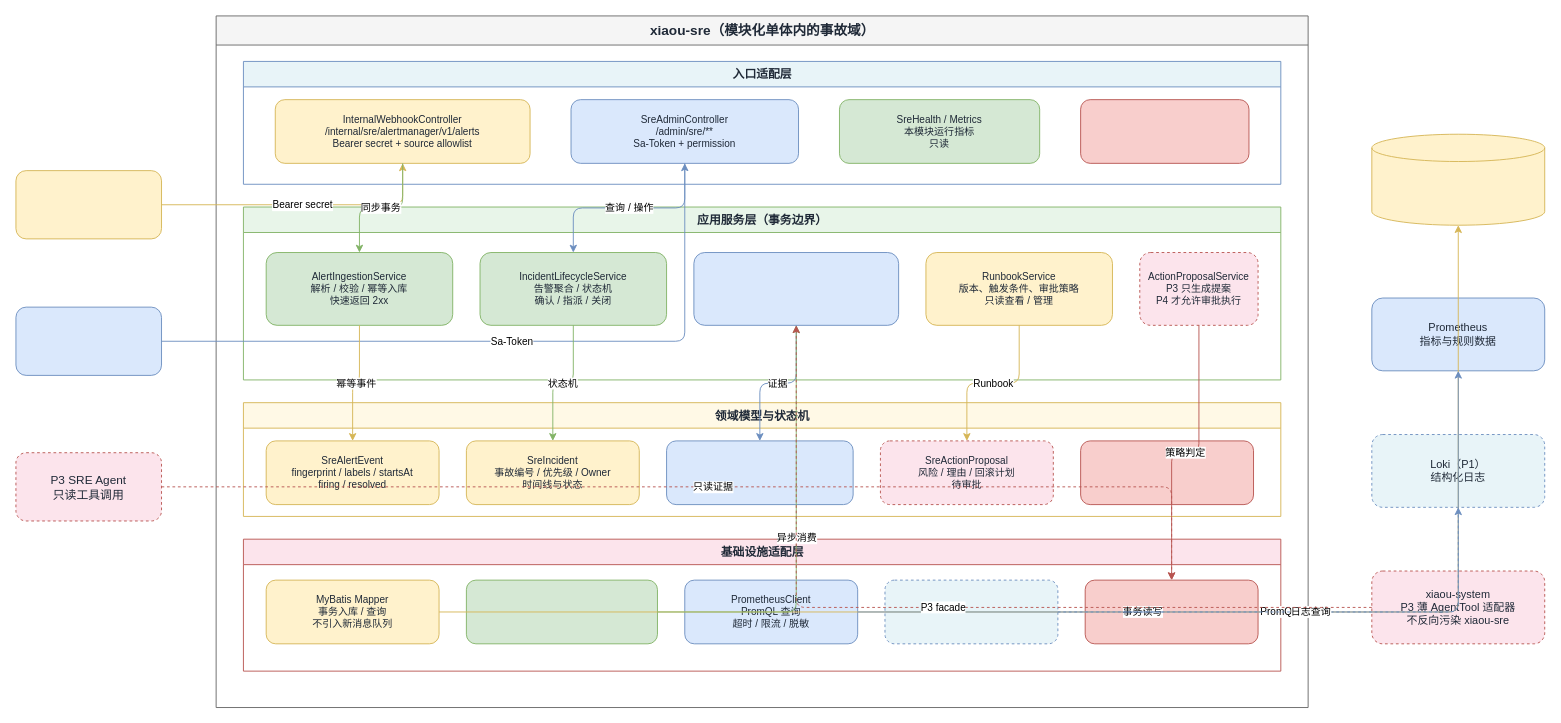
The diagram is 1561 pixels wide and 723 high, and some of its shapes have lost their labels. Here are the shapes that lost their labels. From the top down, the centre of each, then its label:
the point at 1164,131: 入口策略： 内部 webhook 不走浏览器 Token 管理端写操作必须审计
the point at 1458,179: MySQL sre_alert_event sre_incident / evidence / outbox
the point at 88,204: Alertmanager 监控网络内调用
the point at 796,288: EvidenceCollectionService 异步采集 PromQL / Loki 版本与 Runbook 快照
the point at 88,340: vue3-admin-front 管理员 Bearer Token
the point at 759,472: SreIncidentEvidence 事实 / 查询 / 链接 / 快照 可回链
the point at 1167,472: 审计记录 操作者 / 权限 / 结果 不可绕过
the point at 561,611: Transactional Outbox 数据库持久化后异步消费 复用有界线程池
the point at 971,611: LokiClient（P1） 日志范围 / 关键词 最大返回量
the point at 1171,611: Policy Guard READ_ONLY / PROPOSE_ONLY EXECUTE（P4）
